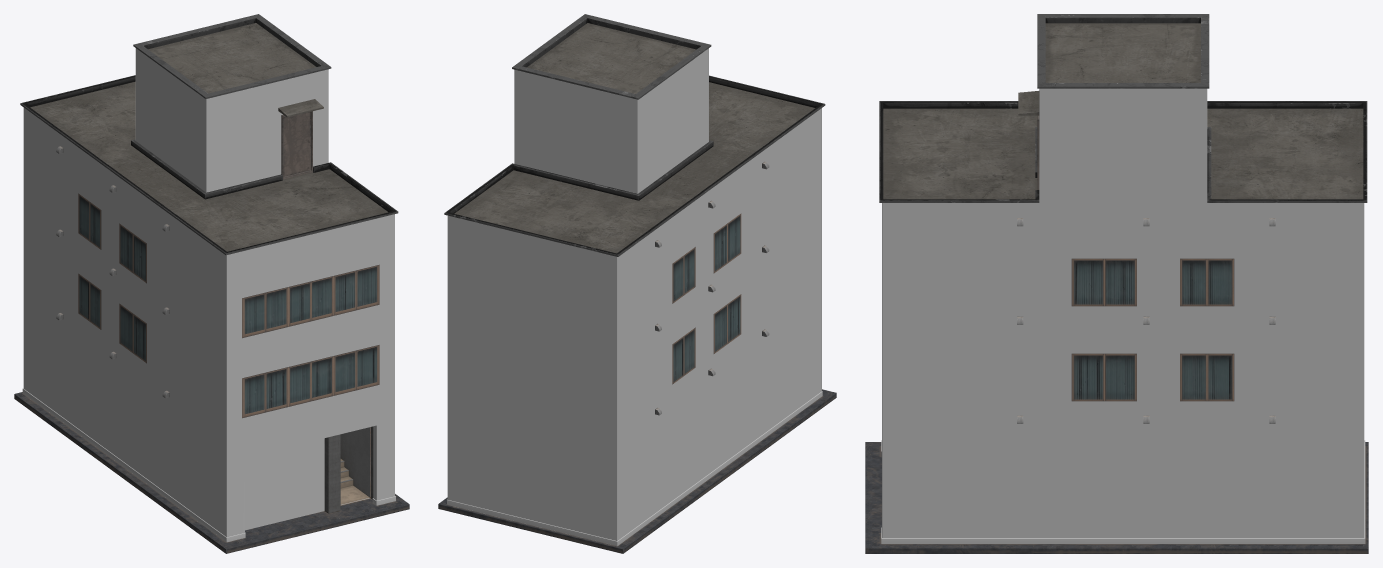
The model's file is BldE_low.fbx.
3 renders of one model, left to right at view 1: azimuth 30°, elevation 25°; view 2: azimuth 150°, elevation 25°; view 3: azimuth 270°, elevation 25°, orthographic. The views are drawn at different scales.
Parts seen in each view (by area): view 1: BldE_low; view 2: BldE_low; view 3: BldE_low.
Part boxes in pixels (x1,y1,x2,y2): BldE_low: (14, 14, 409, 553); BldE_low: (438, 14, 836, 553); BldE_low: (865, 14, 1368, 553).
Size of the model in its own units: 600 by 1220 by 1200.
